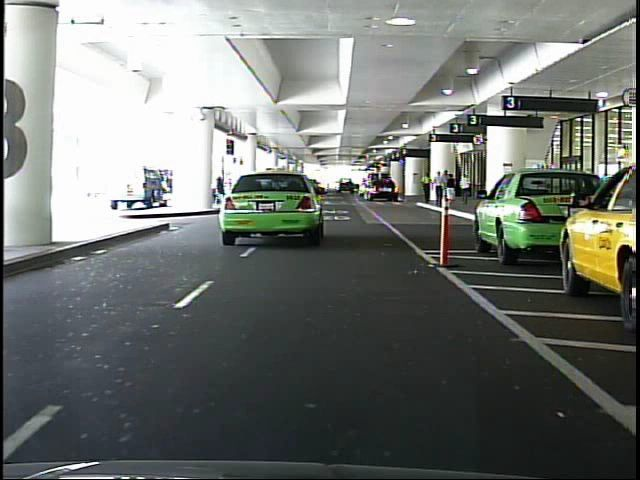person: (458, 171, 475, 212), (418, 170, 435, 210), (444, 172, 458, 213), (434, 168, 446, 209)
